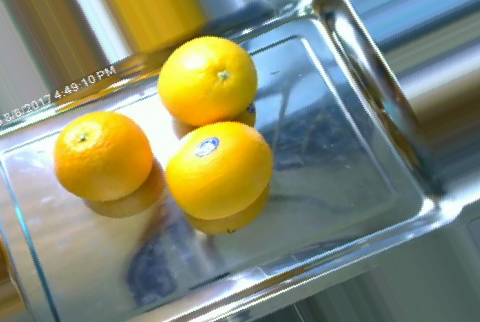Orange: (163, 122, 275, 221), (157, 35, 259, 127), (52, 110, 152, 201)
